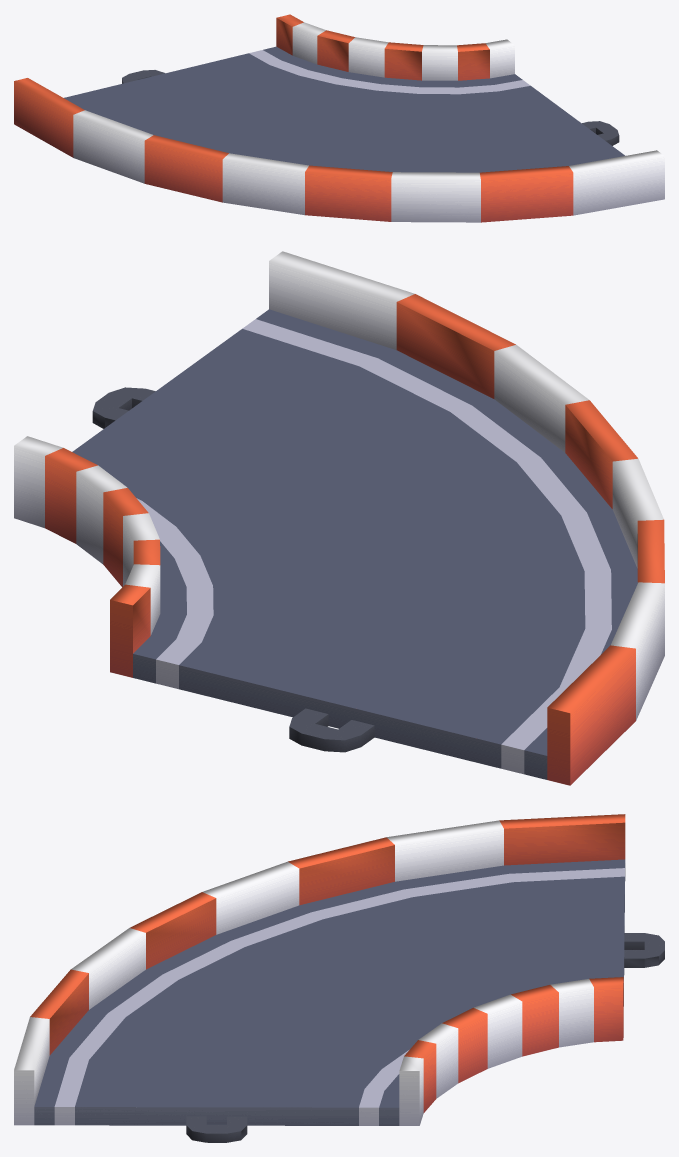
File: track-road-wide-corner-small.002_lev1.glb
3 renders of one model, top to bottom at view 1: azimuth 30°, elevation 25°; view 2: azimuth 150°, elevation 25°; view 3: azimuth 270°, elevation 25°, orthographic. The views are drawn at different scales.
Parts seen in each view (by area): view 1: track-road-wide-corner-small.002_lev1; view 2: track-road-wide-corner-small.002_lev1; view 3: track-road-wide-corner-small.002_lev1.
Part boxes in pixels (x1=…): track-road-wide-corner-small.002_lev1: x1=14, y1=14, x2=664, y2=222; track-road-wide-corner-small.002_lev1: x1=14, y1=251, x2=664, y2=785; track-road-wide-corner-small.002_lev1: x1=14, y1=814, x2=664, y2=1142.
Bounding box in the file's own units: 3.19 × 0.3 × 3.21.
Materials: 1 (1 with a texture image).
